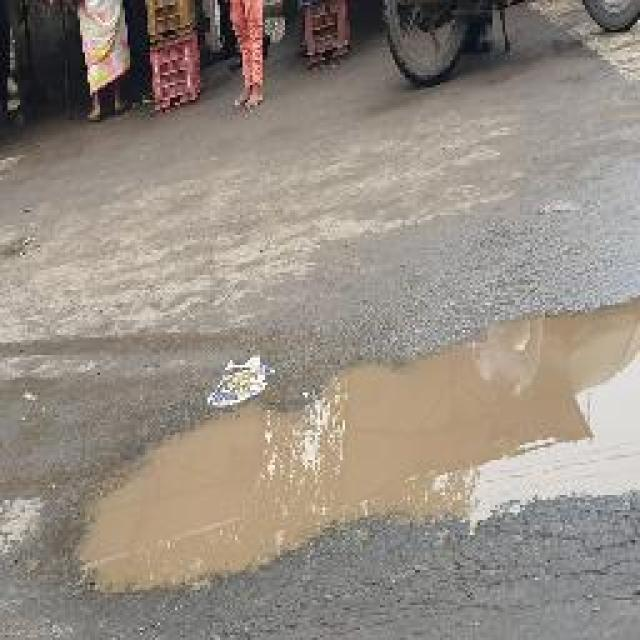stagnation: (70, 312, 640, 592)
